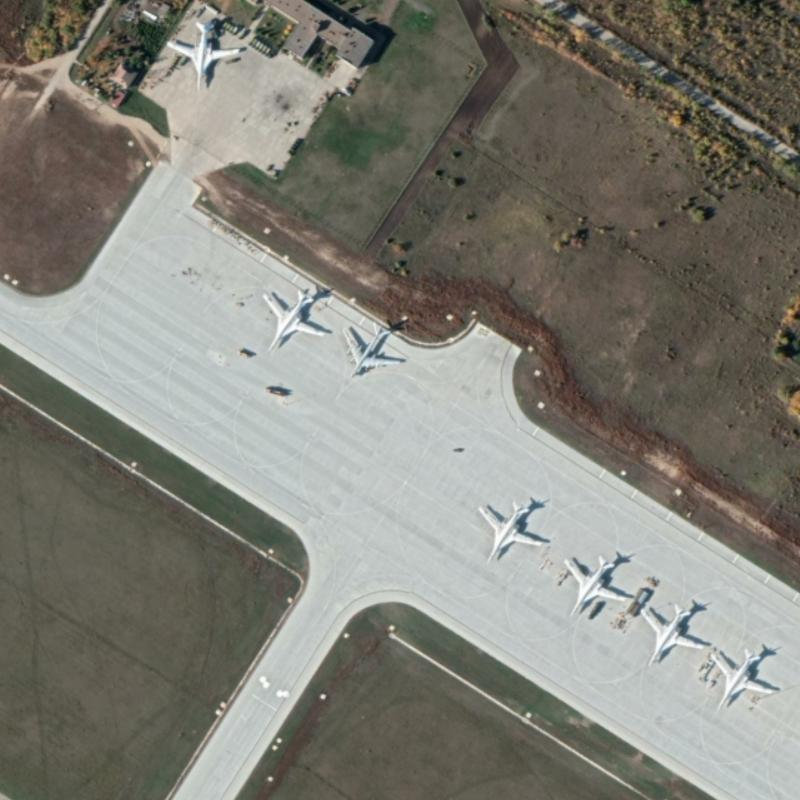A17: (341, 318, 407, 382)
A6: (161, 18, 243, 94), (560, 547, 634, 616), (473, 494, 546, 563), (707, 643, 778, 710), (637, 598, 706, 666), (260, 285, 331, 350)
